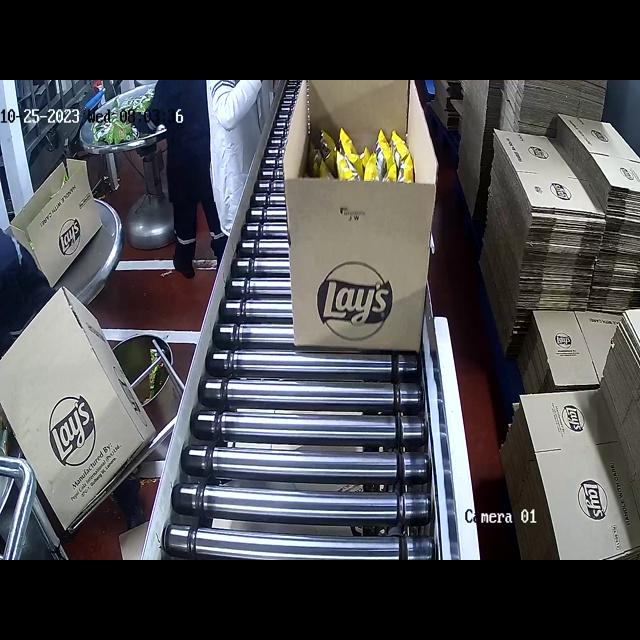salted: (314, 107, 415, 196)
